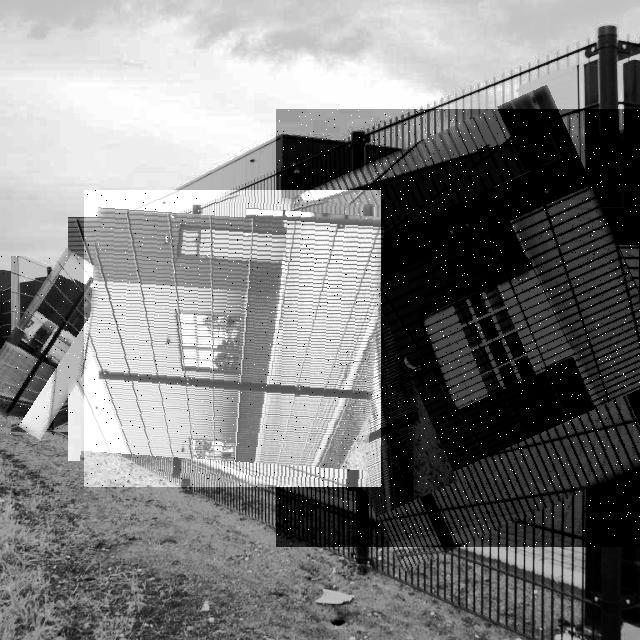fences: (276, 109, 640, 547), (84, 190, 381, 487), (0, 252, 114, 435)
